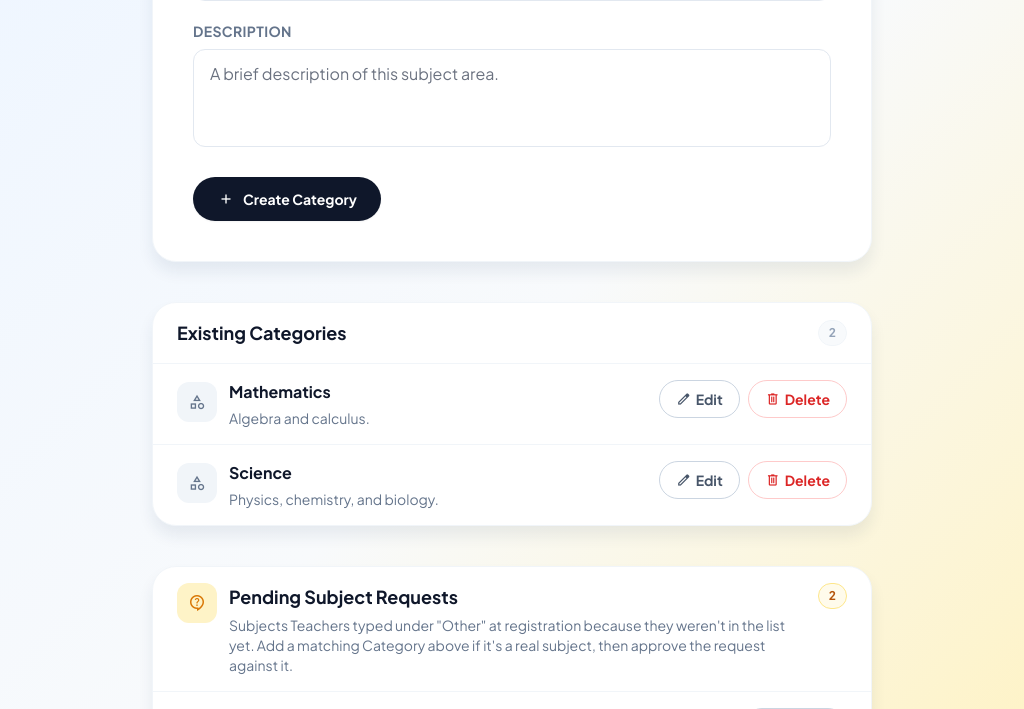
it: CategoryManagementPage › shows the backend validation message when editing to a duplicate name and stays in edit mode
(page scrolled)
Expected: the text "Mathematics" is shown, [229,381,331,402]
Click the button "Edit" in the row of "Algebra and calculus.". click: {"x": 699, "y": 399}
box: [659,380,740,418]
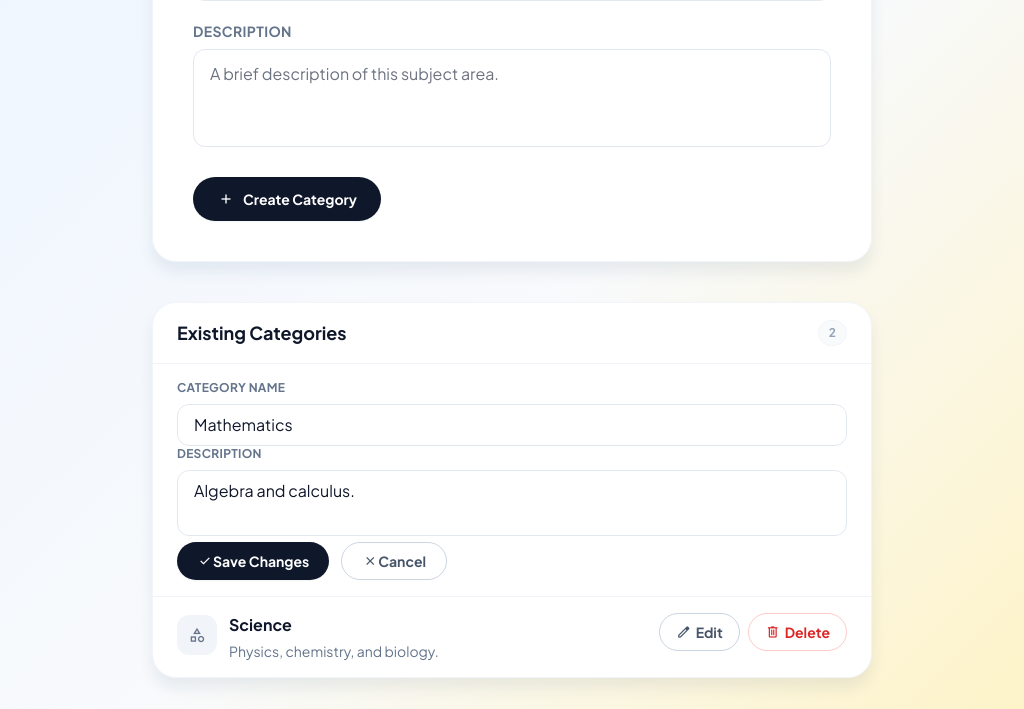
Replace the text in the field labelled "Category Name" below "Existing Categories" with "Science". click: {"x": 512, "y": 425}
box: [177,404,847,446]
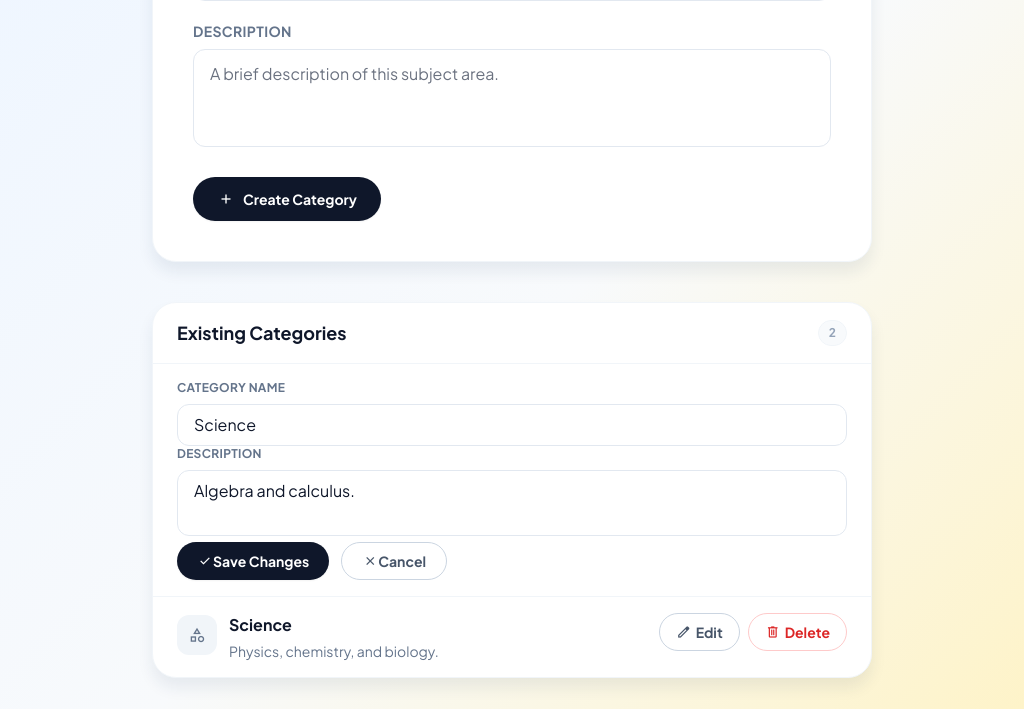
Click the button "Save Changes". click: {"x": 253, "y": 561}
box: [177,542,329,580]
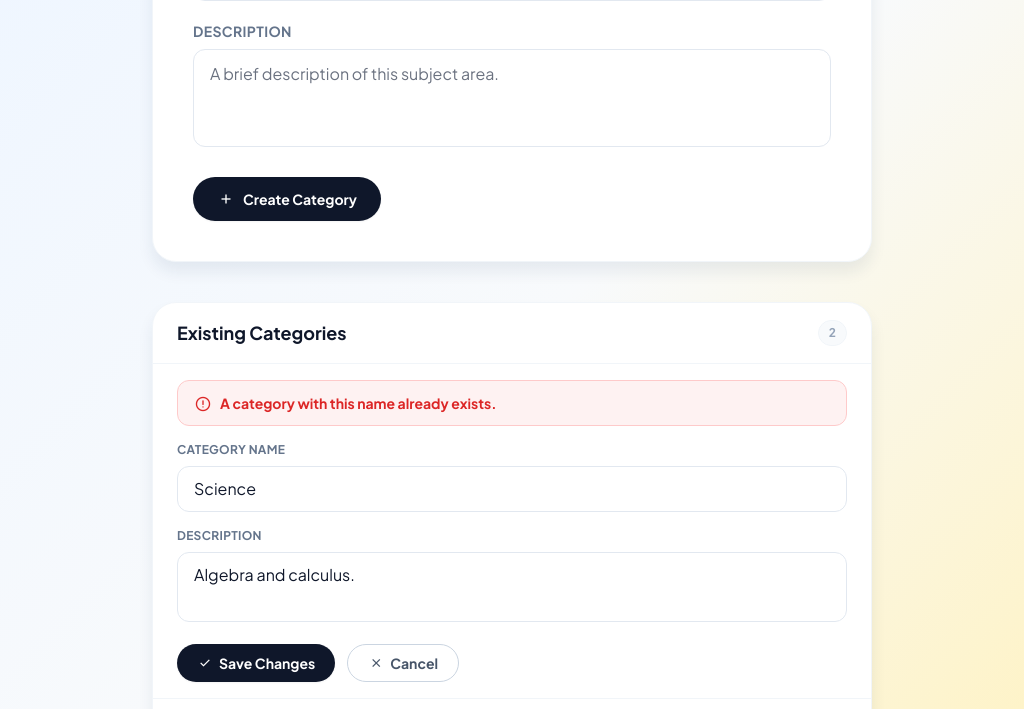
Expected: the text "A category with this name already exists." is shown, [177,380,847,426]
